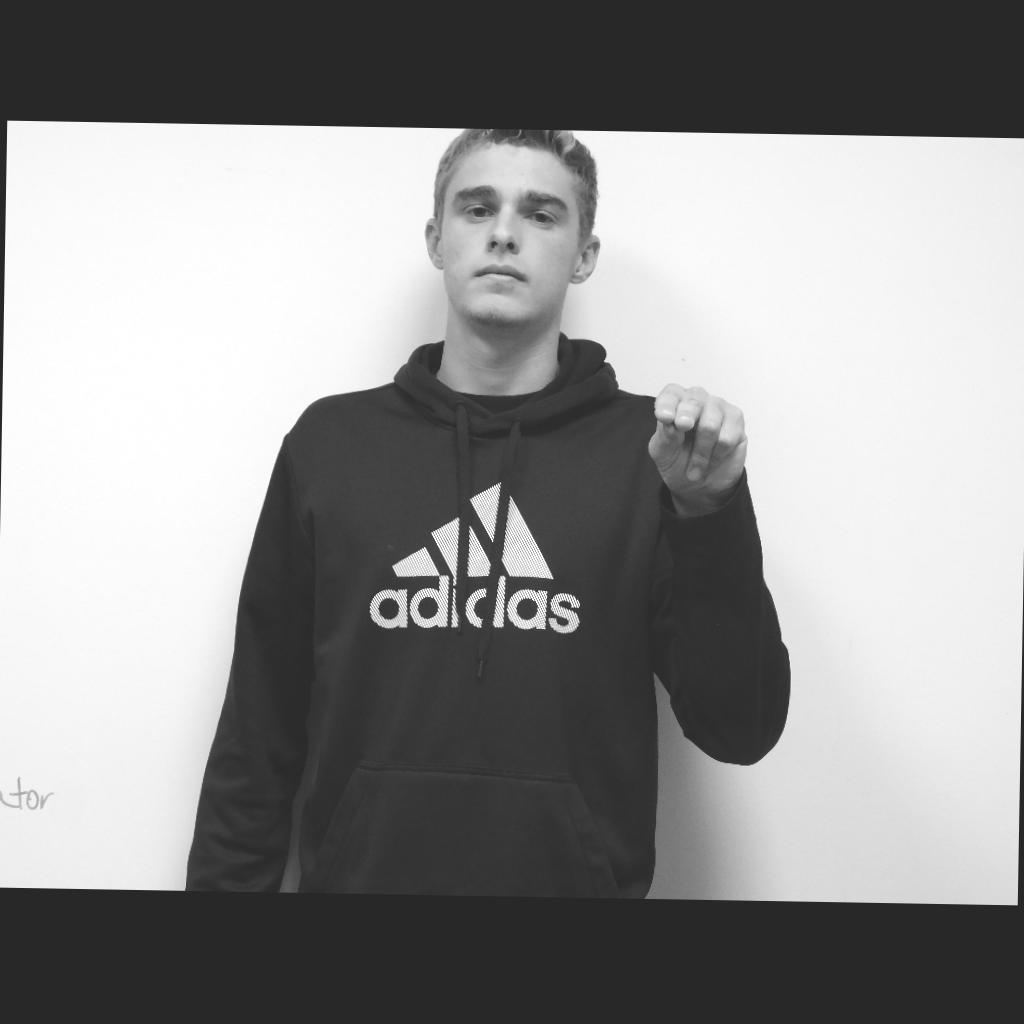no: (648, 380, 748, 496)
